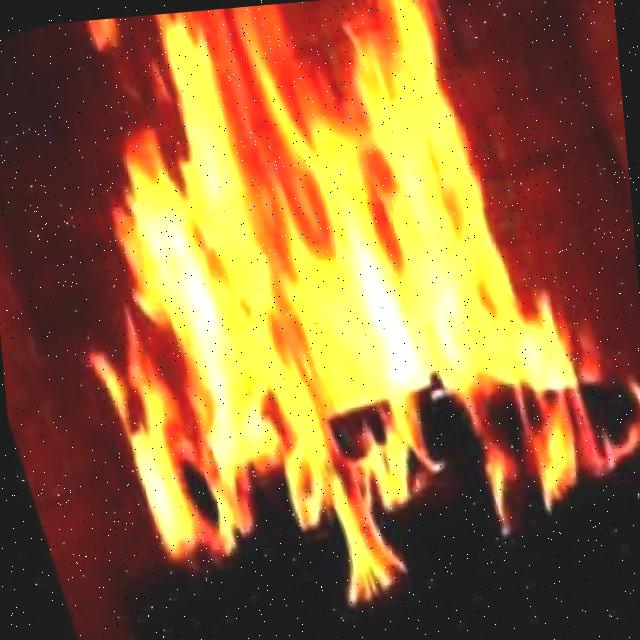fire: (2, 0, 573, 591)
